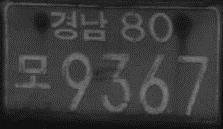0: (147, 10, 174, 44)
3: (97, 52, 132, 115)
6: (138, 52, 171, 115)
7: (175, 52, 209, 118)
8: (119, 9, 147, 43)
9: (61, 49, 94, 114)
경남_O: (48, 9, 109, 43)
모: (12, 52, 52, 90)
